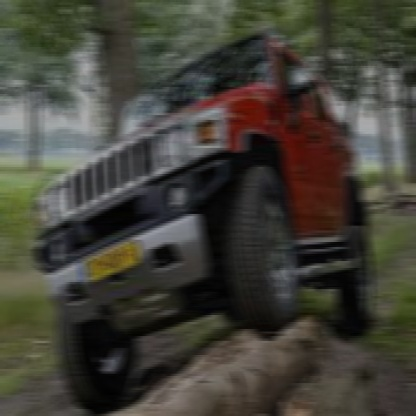Vehicle: (38, 28, 378, 414)
